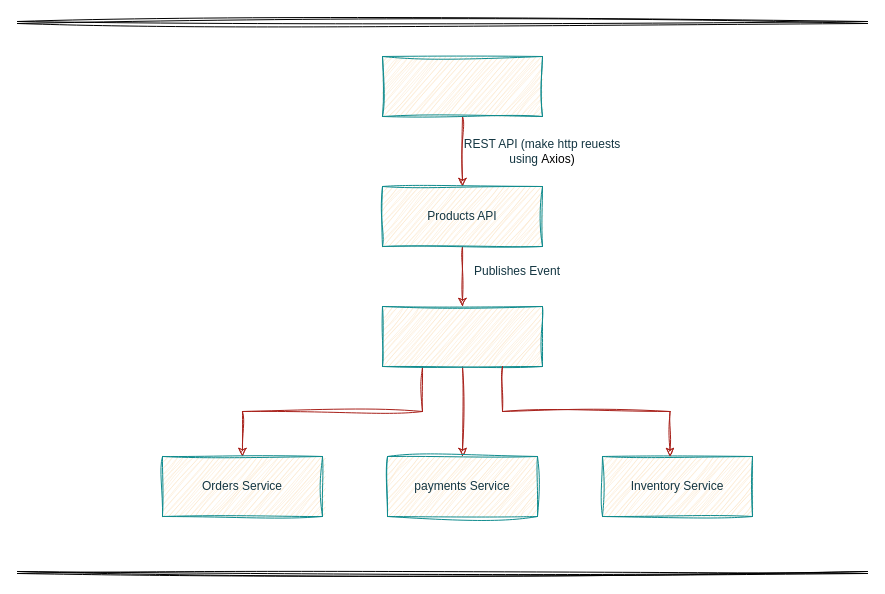
Image size: 885x594. Some labels were removed from this diagram. Here are the shapes that lost their labels. From the top down, the centre of each, then its label:
At point 462,86: "React UI".
At point 462,336: "Message Bus (Kafka)".
